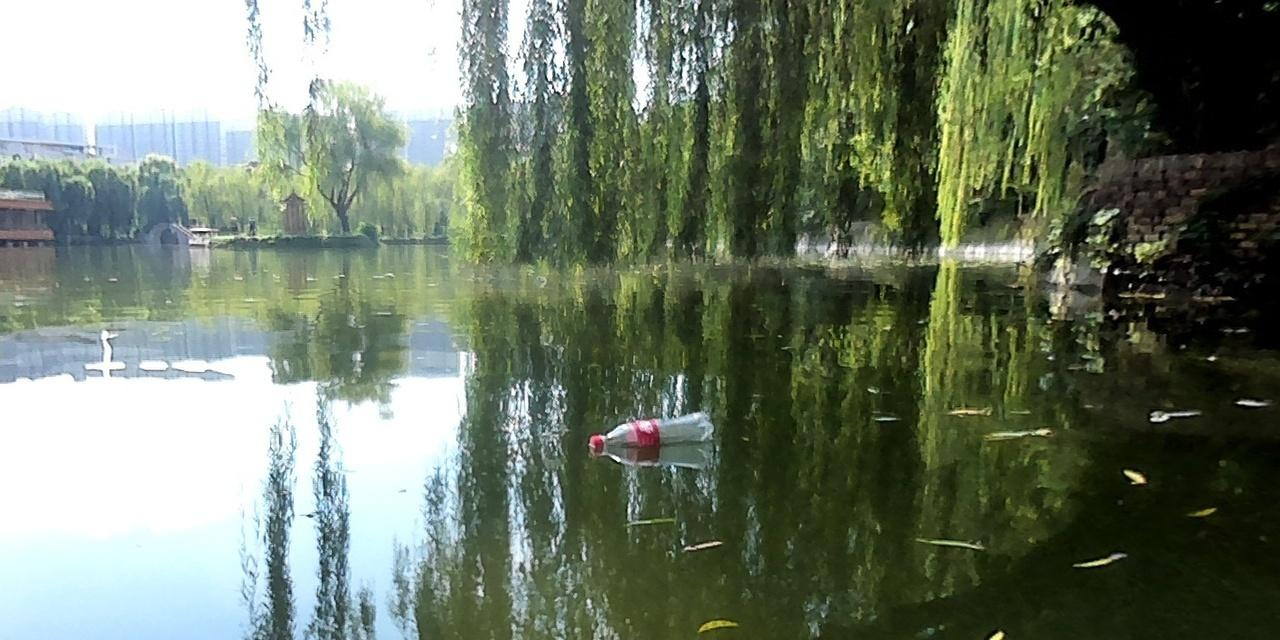bottle: (583, 407, 717, 453)
